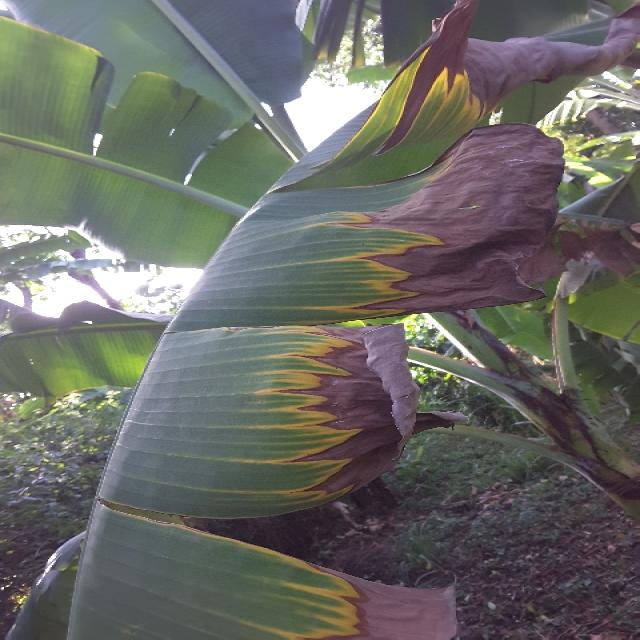Cordana: (207, 7, 530, 640)
